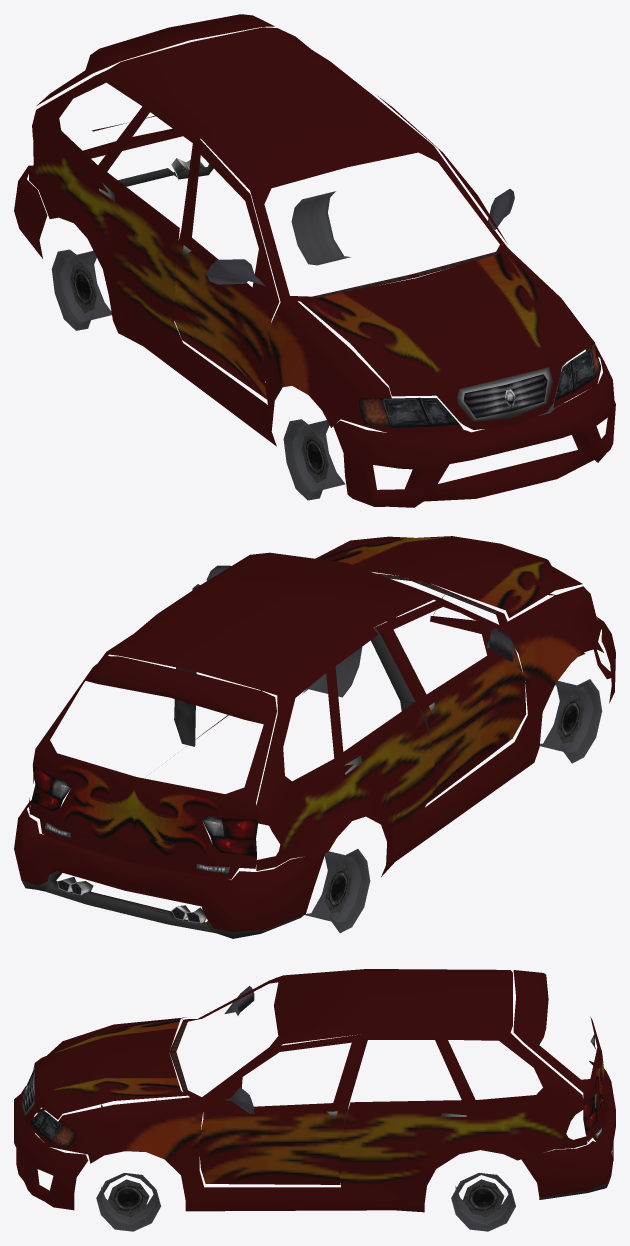
Rendered from car-CUPE_Car14.glb.
3 views of the same model, one above another, from view 1: azimuth 30°, elevation 25°; view 2: azimuth 150°, elevation 25°; view 3: azimuth 270°, elevation 25° (orthographic). The views are drawn at different scales.
Visible parts, largest first — view 1: CUPE_Car14; view 2: CUPE_Car14; view 3: CUPE_Car14.
Part boxes in pixels (bbox=[...]): CUPE_Car14: bbox=[14, 14, 615, 507]; CUPE_Car14: bbox=[14, 536, 615, 938]; CUPE_Car14: bbox=[14, 969, 615, 1231].
Bounding box in the file's own units: 2.15 × 1.61 × 4.75.
Materials: 19 (19 with a texture image).
